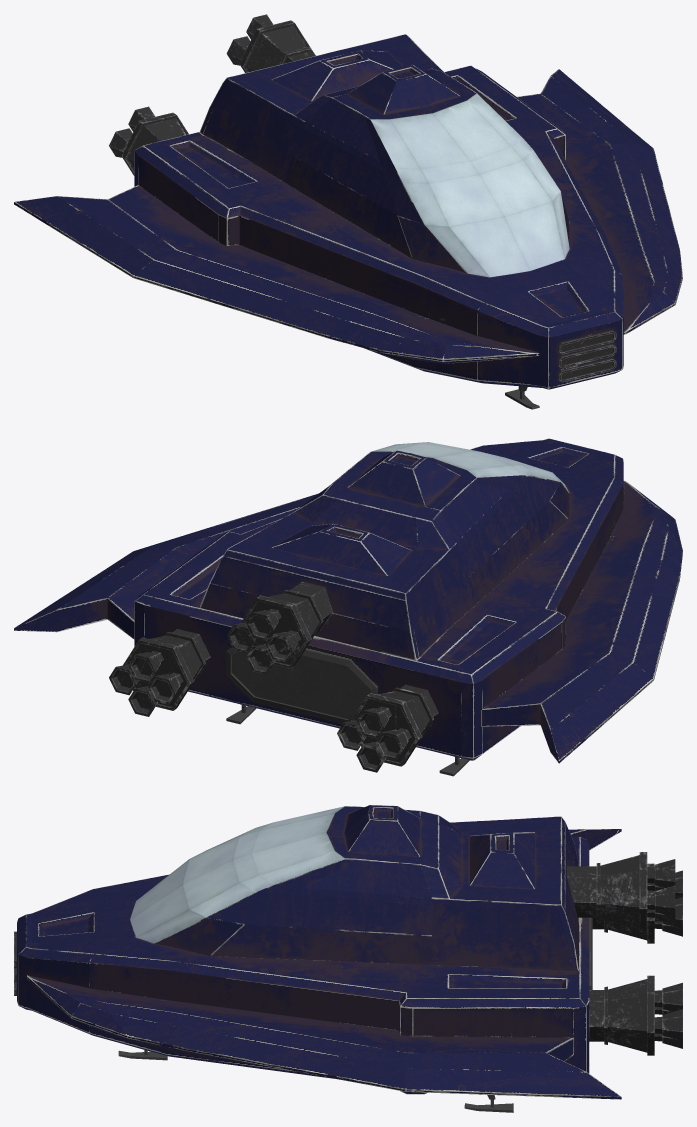
The model's file is Spaceship_Walls_Seperated (1).fbx.
The picture shows the model from 3 angles, top to bottom: view 1: azimuth 30°, elevation 25°; view 2: azimuth 150°, elevation 25°; view 3: azimuth 270°, elevation 25°; orthographic projection.
Visible parts, largest first — view 1: Cockpit, Wing, Ceiling.004, Body.001, Thrusters.002, Grill; view 2: Cockpit, Wing, Ceiling.004, Thrusters.002, Body.001, Backdoor, Legs; view 3: Cockpit, Wing, Ceiling.004, Body.001, Thrusters.002, Legs.
Boxes of the visible parts, bbox=[...] form: Cockpit: bbox=[199, 34, 569, 277]; Wing: bbox=[14, 69, 682, 363]; Ceiling.004: bbox=[134, 65, 623, 337]; Body.001: bbox=[134, 135, 623, 389]; Thrusters.002: bbox=[109, 14, 315, 175]; Grill: bbox=[558, 330, 616, 382]; Cockpit: bbox=[199, 442, 569, 660]; Wing: bbox=[14, 480, 682, 763]; Ceiling.004: bbox=[134, 438, 623, 683]; Thrusters.002: bbox=[109, 581, 438, 772]; Body.001: bbox=[134, 479, 623, 760]; Backdoor: bbox=[226, 647, 377, 723]; Legs: bbox=[226, 704, 469, 776]; Cockpit: bbox=[130, 805, 578, 970]; Wing: bbox=[27, 829, 621, 1099]; Ceiling.004: bbox=[17, 837, 589, 1007]; Body.001: bbox=[17, 951, 589, 1094]; Thrusters.002: bbox=[567, 852, 682, 1055]; Legs: bbox=[118, 1050, 513, 1112].
Bounding box in the file's own units: 7375 × 2974 × 6995.
Materials: 17 (15 with a texture image).
